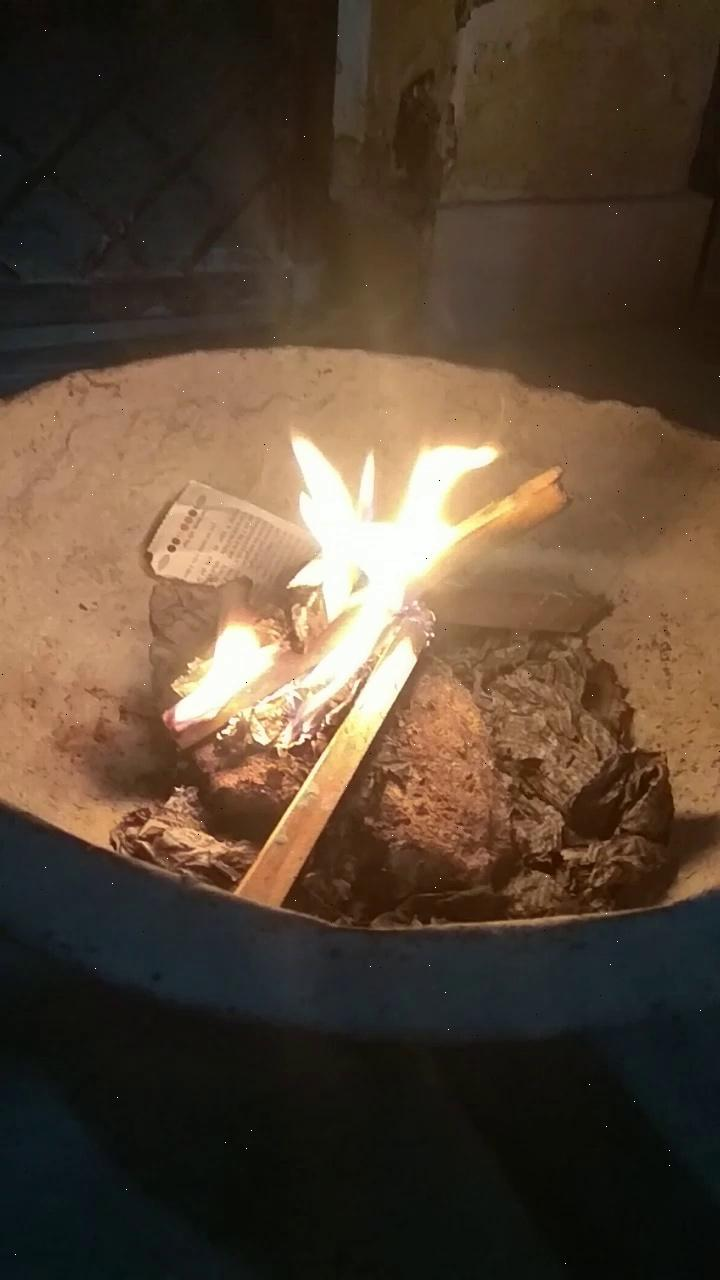fire: (162, 418, 485, 778)
